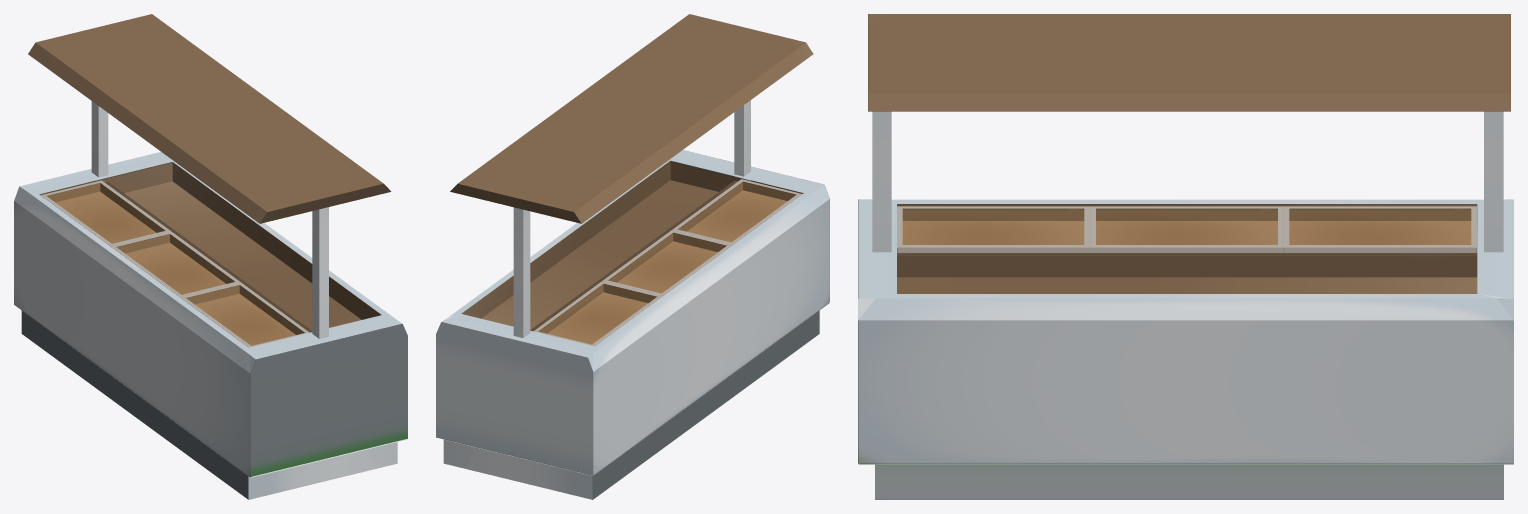
Rendered from Shop_freezer.FBX.
The picture shows the model from 3 angles, left to right: view 1: azimuth 30°, elevation 25°; view 2: azimuth 150°, elevation 25°; view 3: azimuth 270°, elevation 25°; orthographic projection. The views are drawn at different scales.
Parts seen in each view (by area): view 1: Shop_freezer_002, Shop_Container_type1_010, Shop_Container_type1_008, Shop_Container_type1_009; view 2: Shop_freezer_002, Shop_Container_type1_009, Shop_Container_type1_010, Shop_Container_type1_008; view 3: Shop_freezer_002, Shop_Container_type1_008, Shop_Container_type1_009, Shop_Container_type1_010.
Boxes of the visible parts, box(x1,y1,x2,y2) form: Shop_freezer_002: box(14, 14, 407, 499); Shop_Container_type1_010: box(110, 231, 240, 297); Shop_Container_type1_008: box(41, 180, 170, 246); Shop_Container_type1_009: box(180, 282, 309, 347); Shop_freezer_002: box(436, 14, 829, 499); Shop_Container_type1_009: box(672, 179, 802, 244); Shop_Container_type1_010: box(602, 230, 732, 295); Shop_Container_type1_008: box(533, 281, 662, 346); Shop_freezer_002: box(858, 14, 1513, 499); Shop_Container_type1_008: box(1283, 206, 1476, 252); Shop_Container_type1_009: box(897, 206, 1090, 252); Shop_Container_type1_010: box(1090, 206, 1283, 252).
Size of the model in its own units: 221 by 384 by 576.
Materials: 2 (2 with a texture image).
